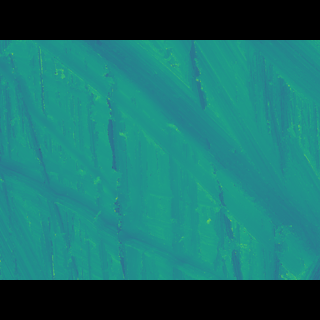Loch: (29, 69, 320, 250)
